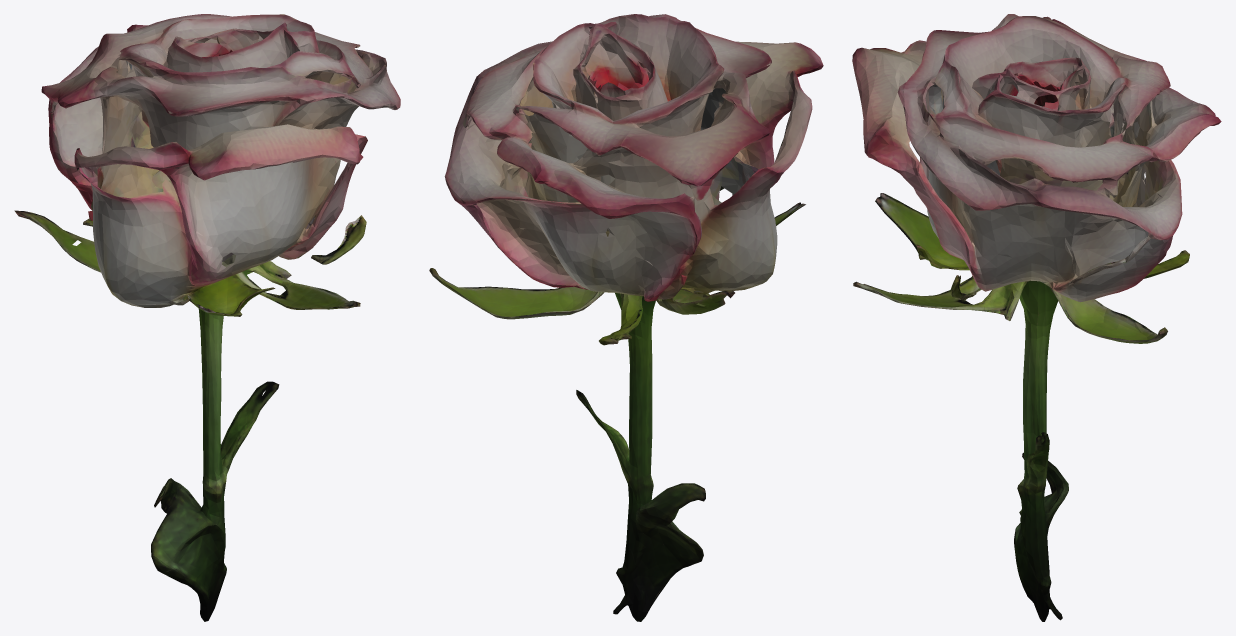
The picture shows the model from 3 angles, left to right: view 1: azimuth 30°, elevation 25°; view 2: azimuth 150°, elevation 25°; view 3: azimuth 270°, elevation 25°; orthographic projection. The views are drawn at different scales.
Parts seen in each view (by area): view 1: world; view 2: world; view 3: world.
Boxes of the visible parts, x1,y1,x2,y2 form: world: [14, 14, 400, 621]; world: [429, 14, 823, 621]; world: [852, 14, 1221, 621].
Size of the model in its own units: 0.5485 by 0.9774 by 0.5641.
1 material, 1 textured.
